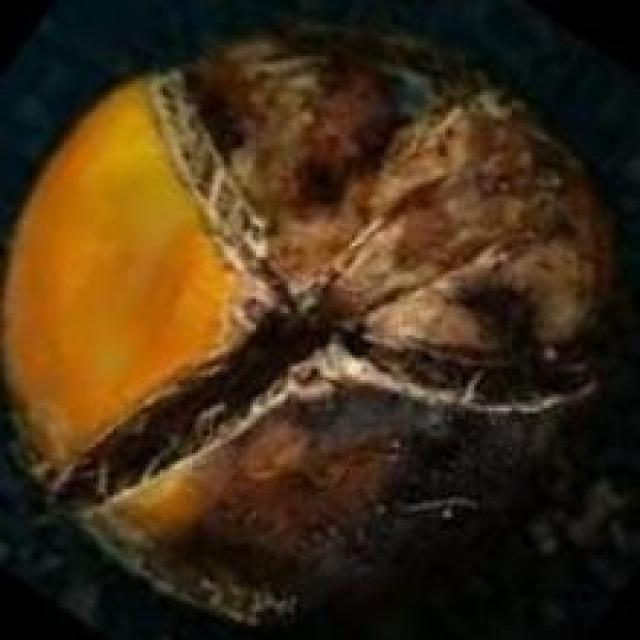damaged: (0, 14, 637, 637)
